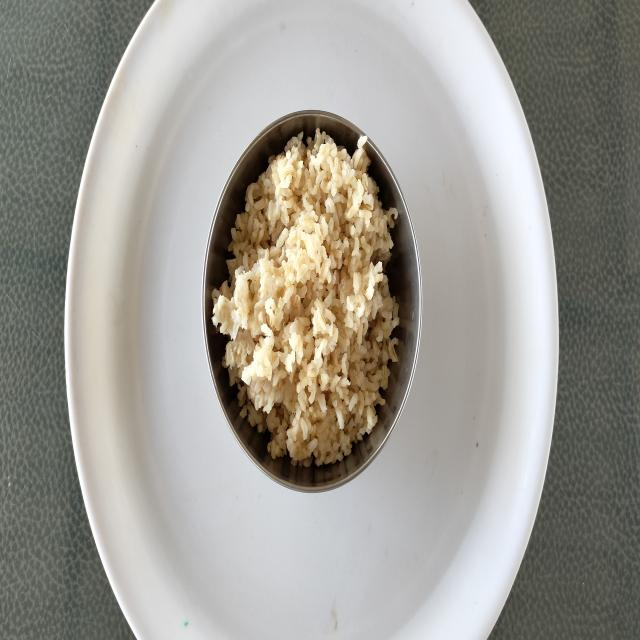brown-rice: (212, 129, 399, 468)
